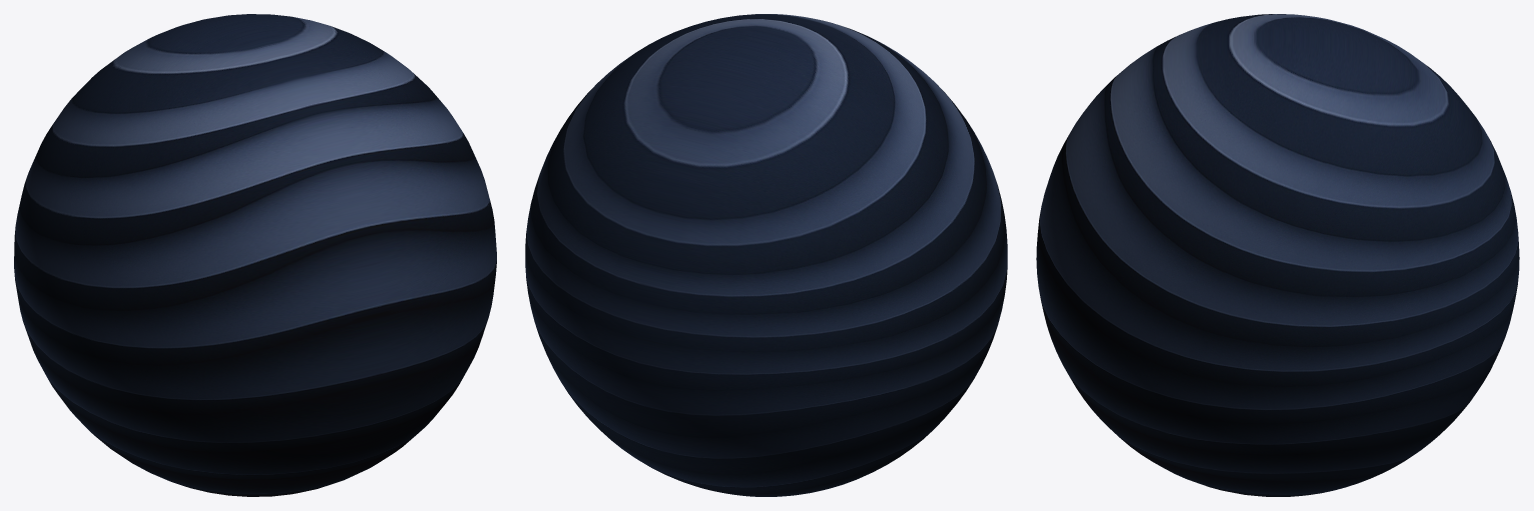
The model's file is bakballfinal2025e.glb.
The picture shows the model from 3 angles, left to right: view 1: azimuth 30°, elevation 25°; view 2: azimuth 150°, elevation 25°; view 3: azimuth 270°, elevation 25°; orthographic projection.
Parts seen in each view (by area): view 1: meshes_0; view 2: meshes_0; view 3: meshes_0.
Part boxes in pixels (box(x1,y1,x2,y2)): meshes_0: box(14, 14, 496, 496); meshes_0: box(525, 14, 1007, 496); meshes_0: box(1036, 14, 1519, 496).
Bounding box in the file's own units: 1.95 × 1.95 × 1.95.
1 material, 1 textured.
